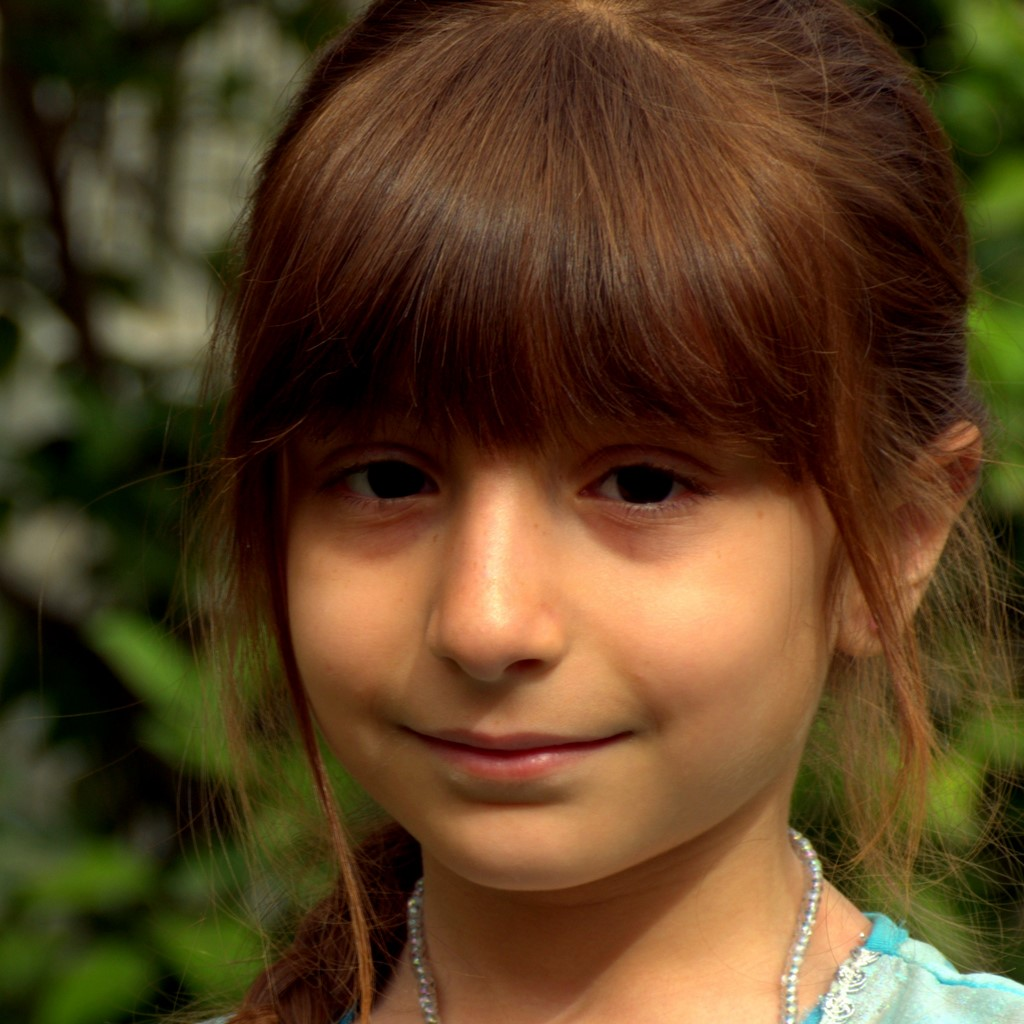sin_mascara: (291, 45, 916, 882)
